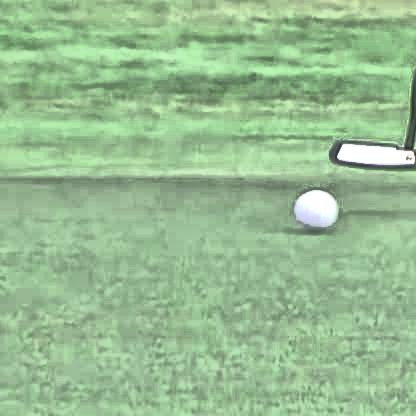golfball: (292, 187, 336, 229)
